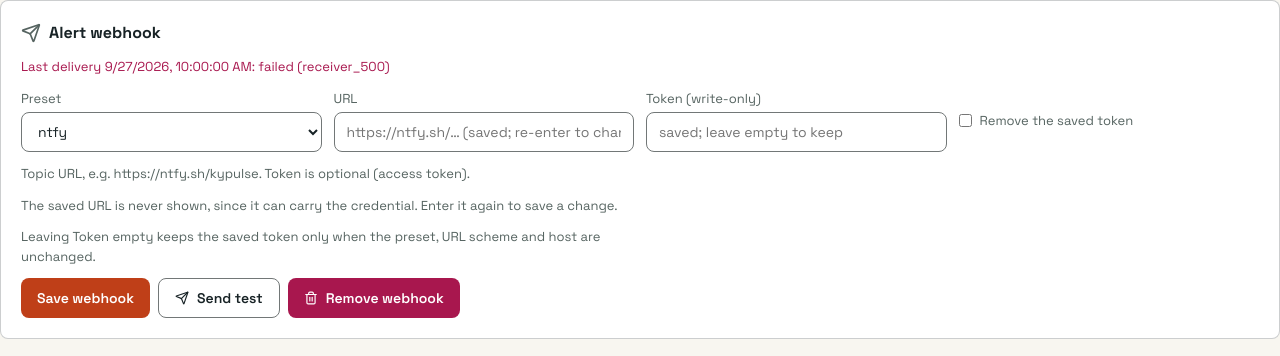
WebhookForm › disables Send test while the form differs from the saved config
The width and height of the screenshot is (1280, 356).
Check: the button "Send test" is enabled, box top-left (158, 278), bottom-right (280, 318)
In the field labelled "URL": (484, 132) top-left (334, 112), bottom-right (634, 152), type "https://ntfy.sh/other"
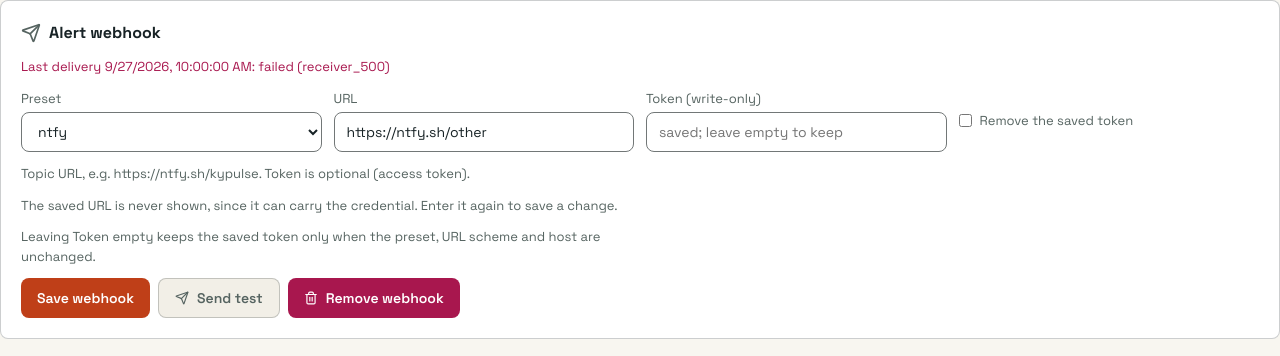
Check: the button "Send test" is disabled, box top-left (158, 278), bottom-right (280, 318)
